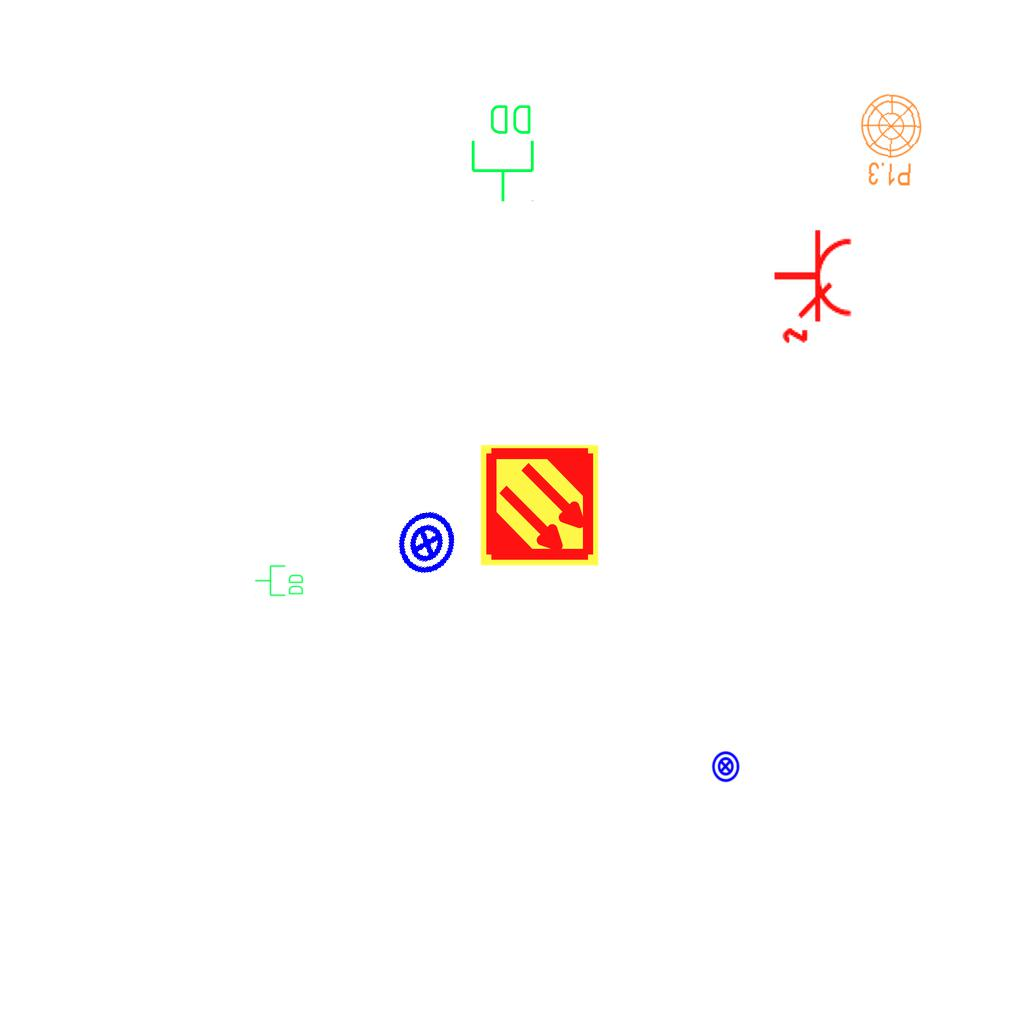ASR_Ansaugrauchmelder: (477, 443, 602, 568)
Aufbaurundleuchte_LED_Treppenhaus: (851, 91, 925, 196)
Datenanschluss_zweifach: (469, 101, 538, 204), (254, 564, 305, 598)
Schukosteckdose_mehrfach: (768, 225, 856, 346)
Taster_beleuchtet: (385, 501, 469, 585), (709, 750, 742, 783)
